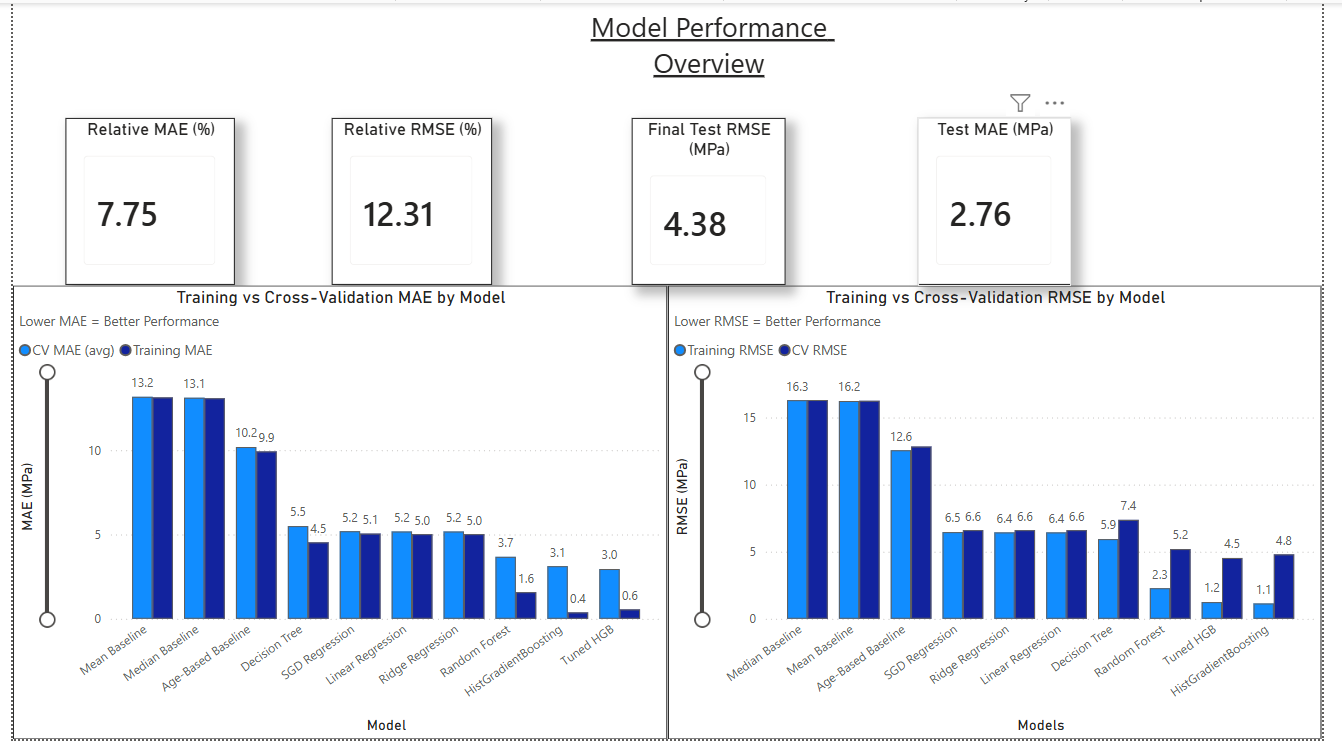

This screenshot's page, from the dashboard's own definition file:
{"tool":"powerbi","page":{"name":"Page 1 - Model Performance Overview","canvas":[1280,720],"ordinal":0},"visuals":[{"type":"cardVisual","title":"Relative MAE (%)","fields":{"Data":["Sum(final_summary_test.Relative MAE (%))"]},"box":[51,112.8,165.7,163],"z":0},{"type":"cardVisual","title":"Relative RMSE (%)","fields":{"Data":["Sum(final_summary_test.Relative RMSE (%))"]},"box":[311.6,112.8,156.7,163],"z":1000},{"type":"clusteredColumnChart","title":"Training vs Cross-Validation RMSE  by Model","fields":{"Y":["Sum(Error_Table.Training RMSE)","Sum(Error_Table.CV RMSE (avg))"],"Category":["Error_Table.Model"]},"box":[640.3,275.8,639.4,444.2],"z":2000},{"type":"clusteredColumnChart","title":"Training vs Cross-Validation MAE by Model","fields":{"Y":["Sum(Error_Table.CV MAE (avg))","Sum(Error_Table.Training MAE)"],"Category":["Error_Table.Model"]},"box":[0,275.8,640.3,444.2],"z":3000},{"type":"cardVisual","title":"Test MAE (MPa)","fields":{"Data":["Sum(final_summary_test.TEST MAE)"]},"box":[884.8,112.8,149.6,163],"z":4000},{"type":"cardVisual","title":"Final Test RMSE (MPa)","fields":{"Data":["Sum(final_summary_test.TEST RMSE)"]},"box":[605.4,112.8,150.4,163],"z":5000},{"type":"textbox","box":[529.3,0,302.7,94.9],"z":5001}]}

Visuals, with their boxes in screenshot pixels (x1, y1, x2, y2), scaled from the page's 1280x720 canvas onto the 1342x741 screenshot:
"Relative MAE (%)" cardVisual: crop(53, 116, 227, 284)
"Relative RMSE (%)" cardVisual: crop(327, 116, 491, 284)
"Training vs Cross-Validation RMSE  by Model" clusteredColumnChart: crop(671, 284, 1341, 740)
"Training vs Cross-Validation MAE by Model" clusteredColumnChart: crop(0, 284, 671, 740)
"Test MAE (MPa)" cardVisual: crop(928, 116, 1085, 284)
"Final Test RMSE (MPa)" cardVisual: crop(635, 116, 792, 284)
textbox: crop(555, 0, 872, 98)
